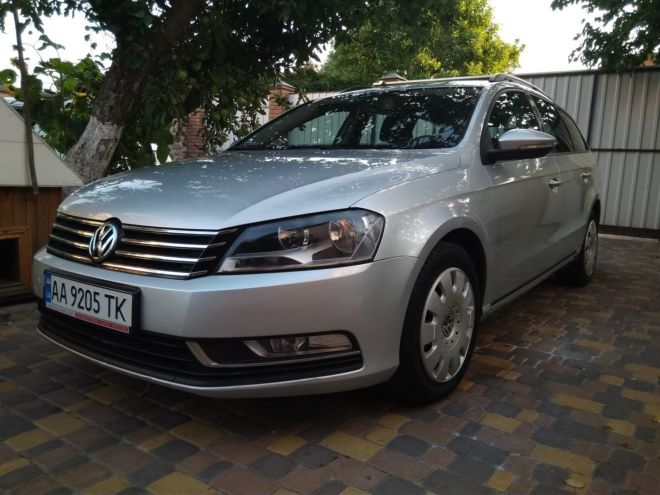car: (32, 71, 605, 400)
plate: (40, 272, 133, 331)
